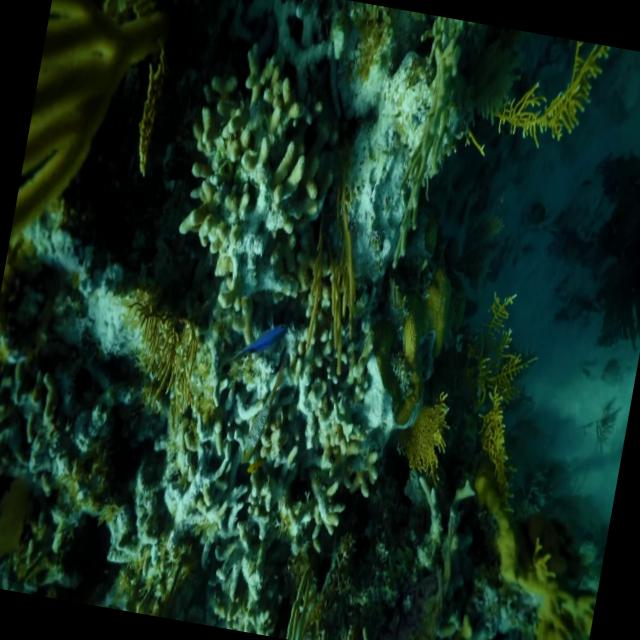fish: (220, 312, 292, 374)
